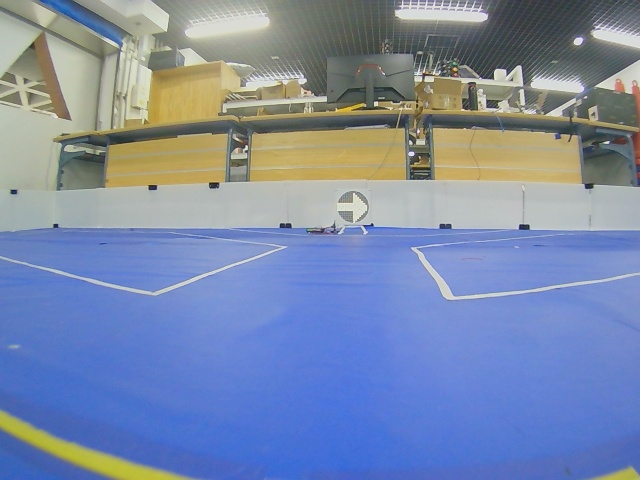right_yellow: (337, 191, 369, 223)
